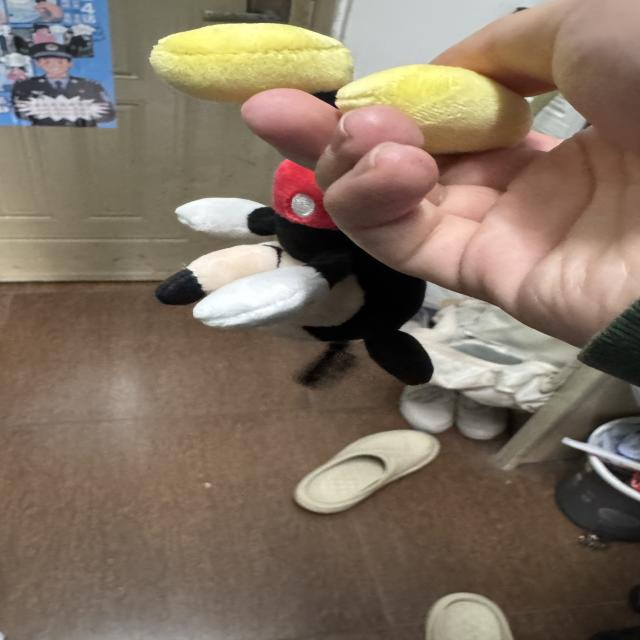mickey: (157, 161, 432, 386), (157, 162, 432, 384)
